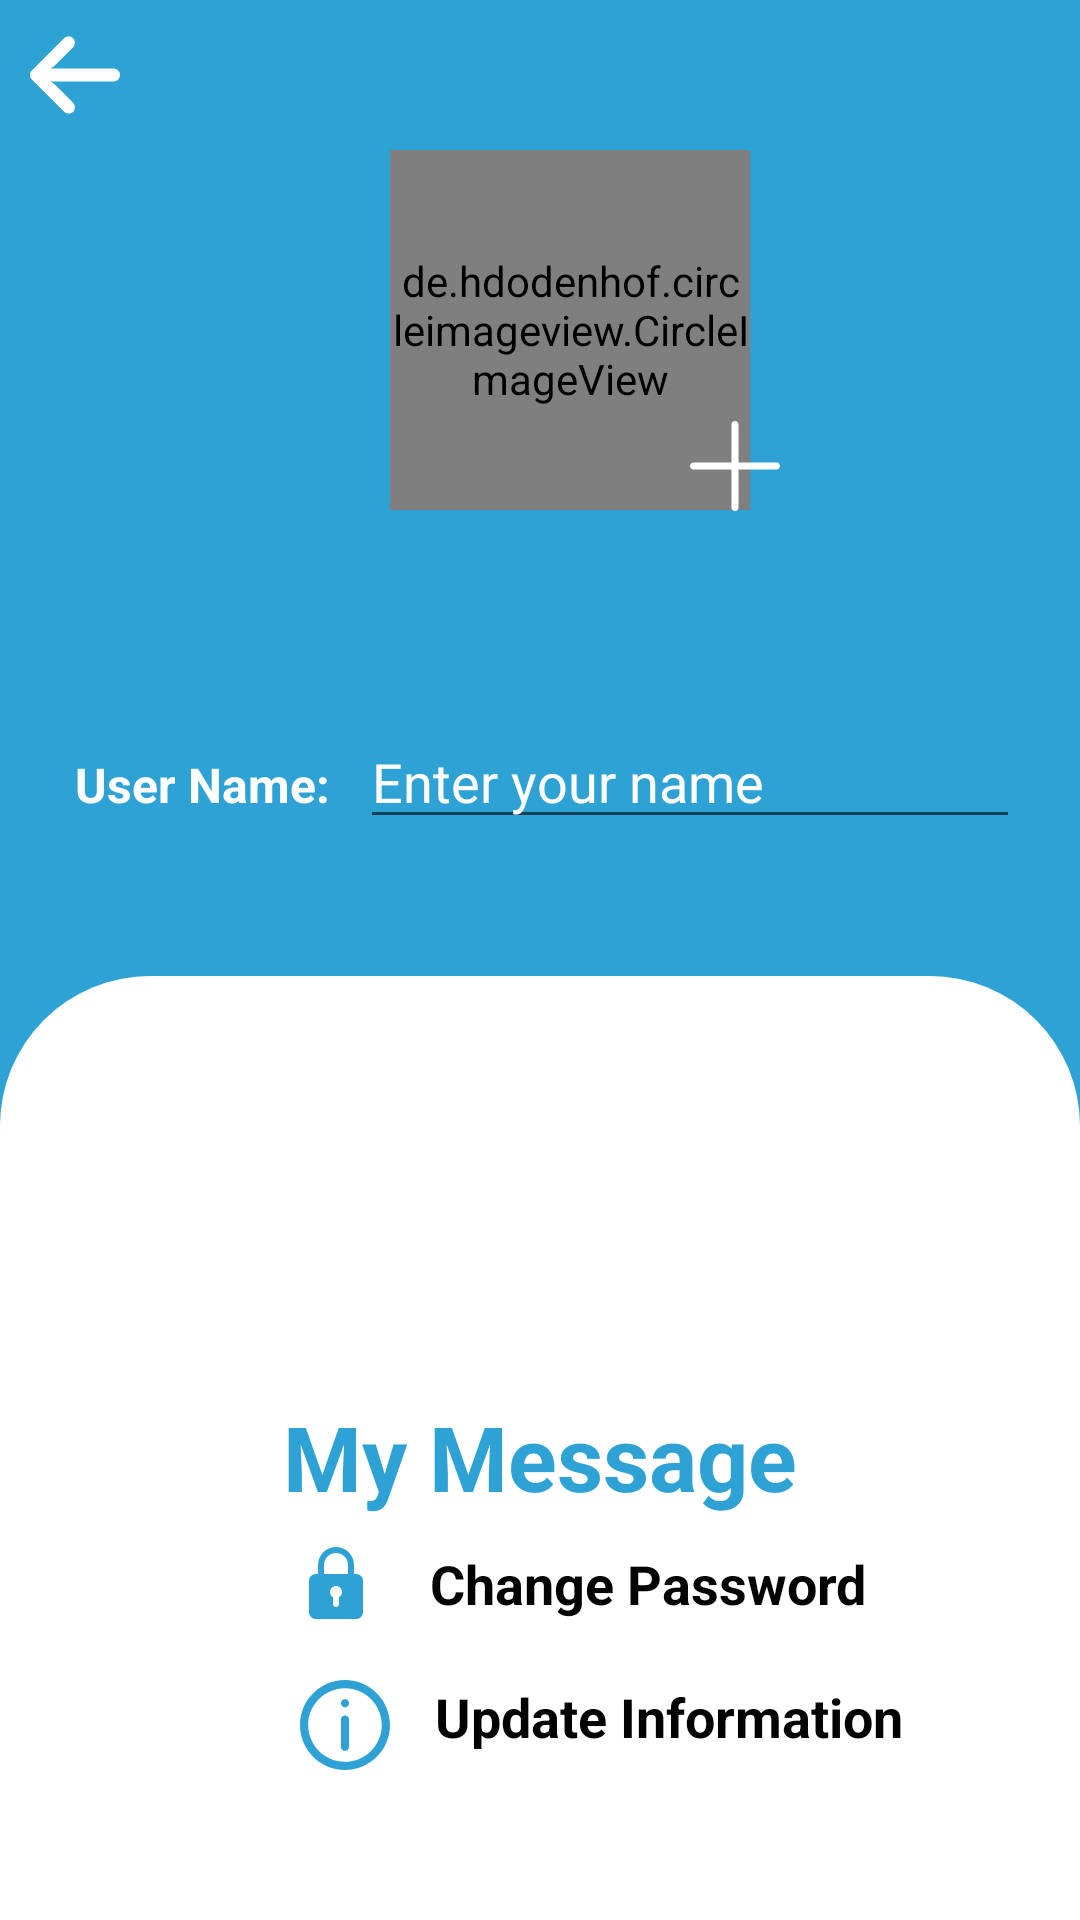

Point at icon controls on the screen. Image size 1080*1920, points as point (x, y).
leftarrow: point (75, 75)
plus: point (735, 466)
